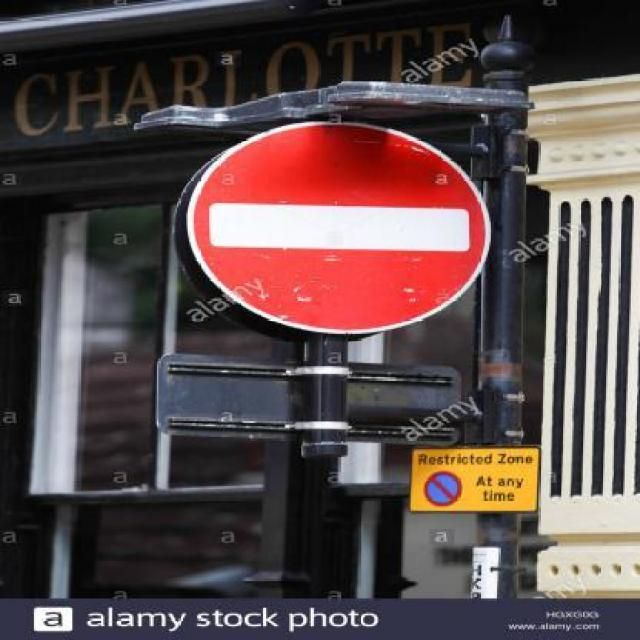no_stop: (418, 470, 468, 508)
